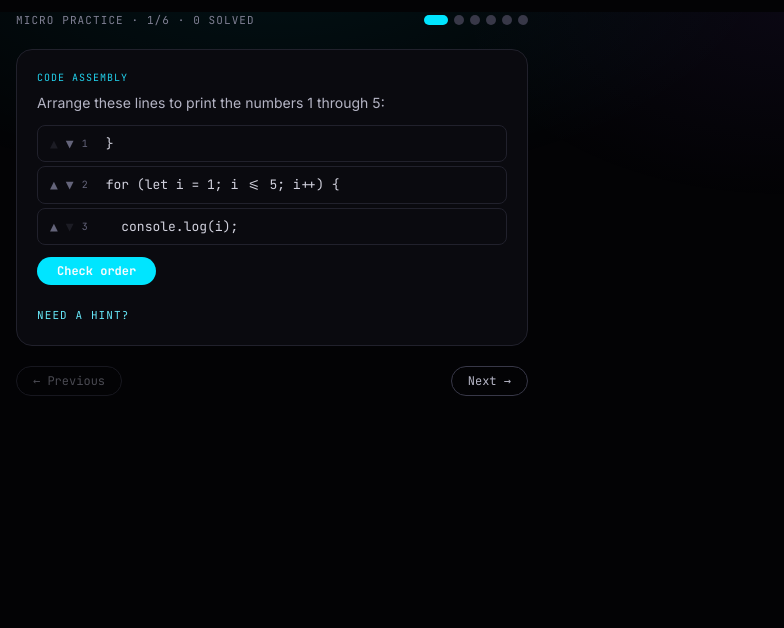
it: quick practice › grades a spot-the-bug question on the broken line, not a reveal button
Click the button "Next →".
click(489, 381)  # box [451,366,528,396]
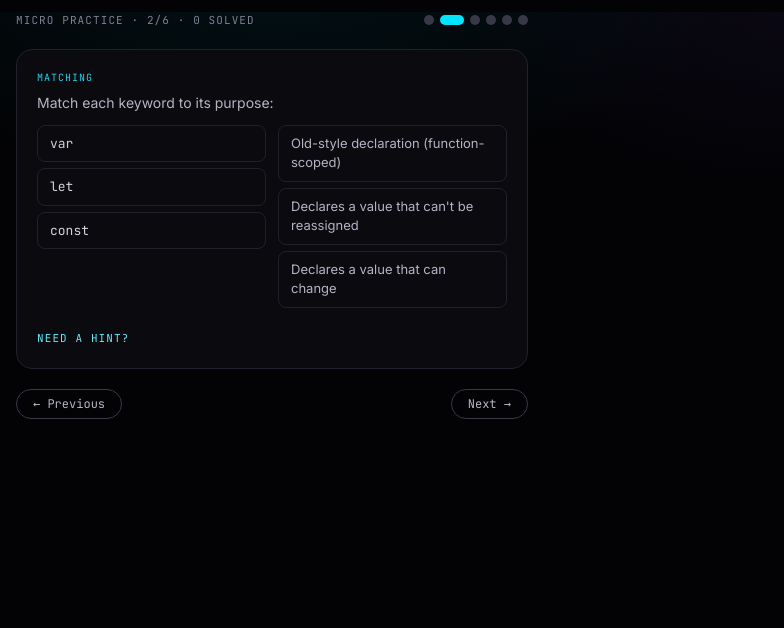
Click the button "Next →".
click(489, 404)  # box [451,388,528,418]
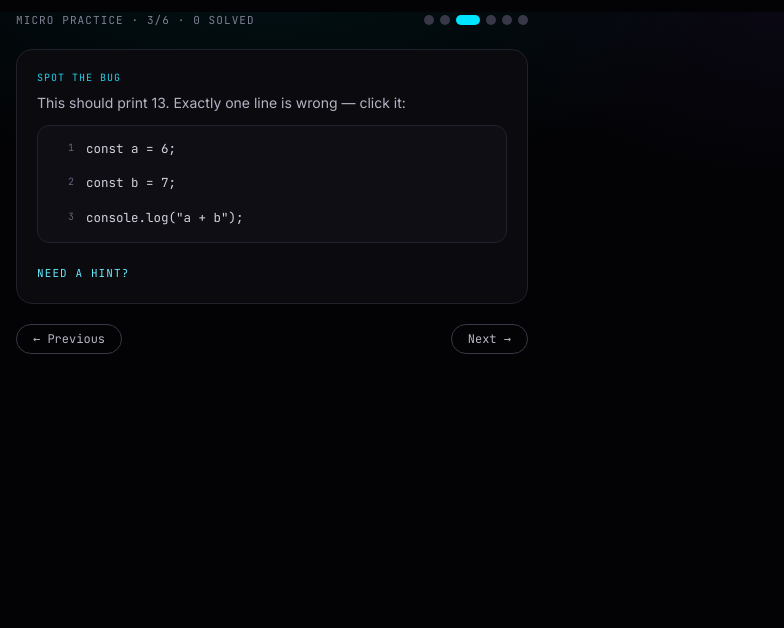
Click the button "1 const a = 6;".
click(131, 148)  # box [46,134,498,164]
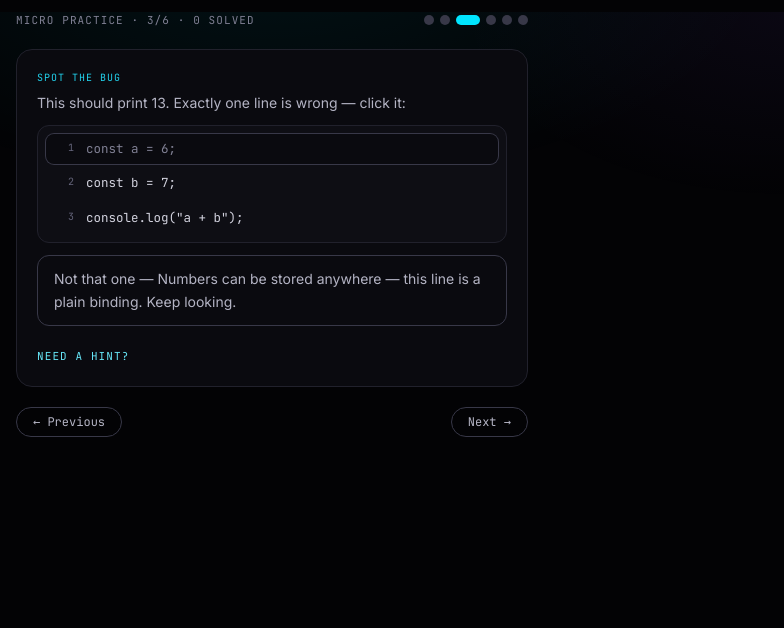
Check: the text "✓ correct" is not shown
Check: the text "Not that one" is shown, box [54,270,157,287]
Click the button "3 console.log(\"a + b\");".
click(165, 218)  # box [46,203,498,234]
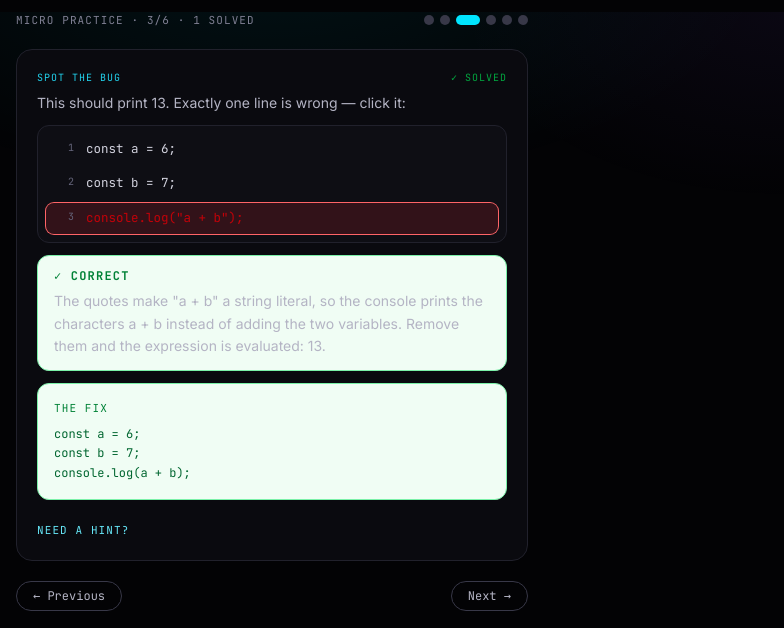
Check: the text "✓ correct" is shown, box [54,268,130,284]
Check: the text "string literal" is shown, box [54,292,483,354]
